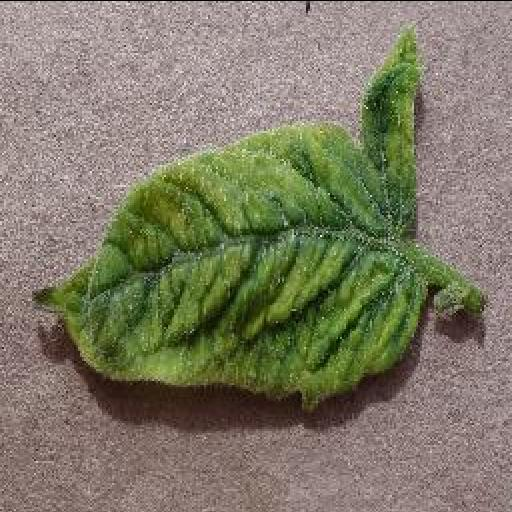disease_tomato: (28, 22, 434, 408)
